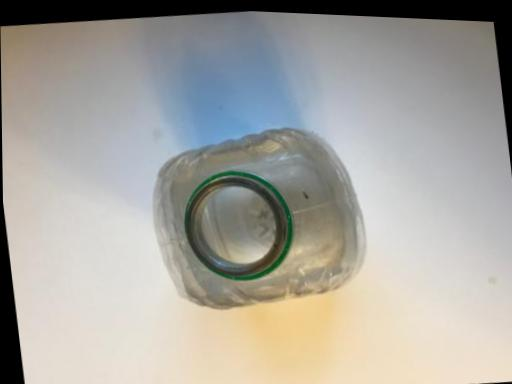plastic: (154, 128, 365, 308)
